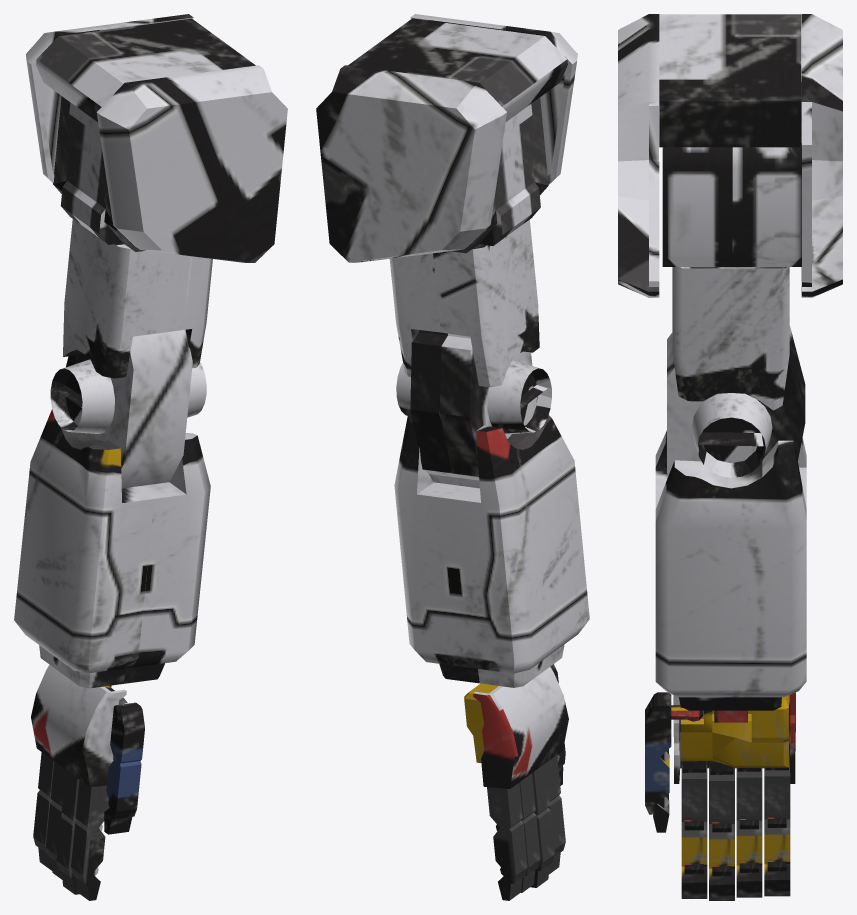
Rendered from hand1.obj.
3 renders of one model, left to right at view 1: azimuth 30°, elevation 25°; view 2: azimuth 150°, elevation 25°; view 3: azimuth 270°, elevation 25°, orthographic. The views are drawn at different scales.
Parts seen in each view (by area): view 1: Gundam:polySurface666; view 2: Gundam:polySurface666; view 3: Gundam:polySurface666.
Part boxes in pixels (bbox=[...]): Gundam:polySurface666: bbox=[14, 14, 287, 900]; Gundam:polySurface666: bbox=[316, 14, 589, 900]; Gundam:polySurface666: bbox=[618, 14, 842, 900].
Bounding box in the file's own units: 3.03 × 12.02 × 2.73.
1 material, 1 textured.
